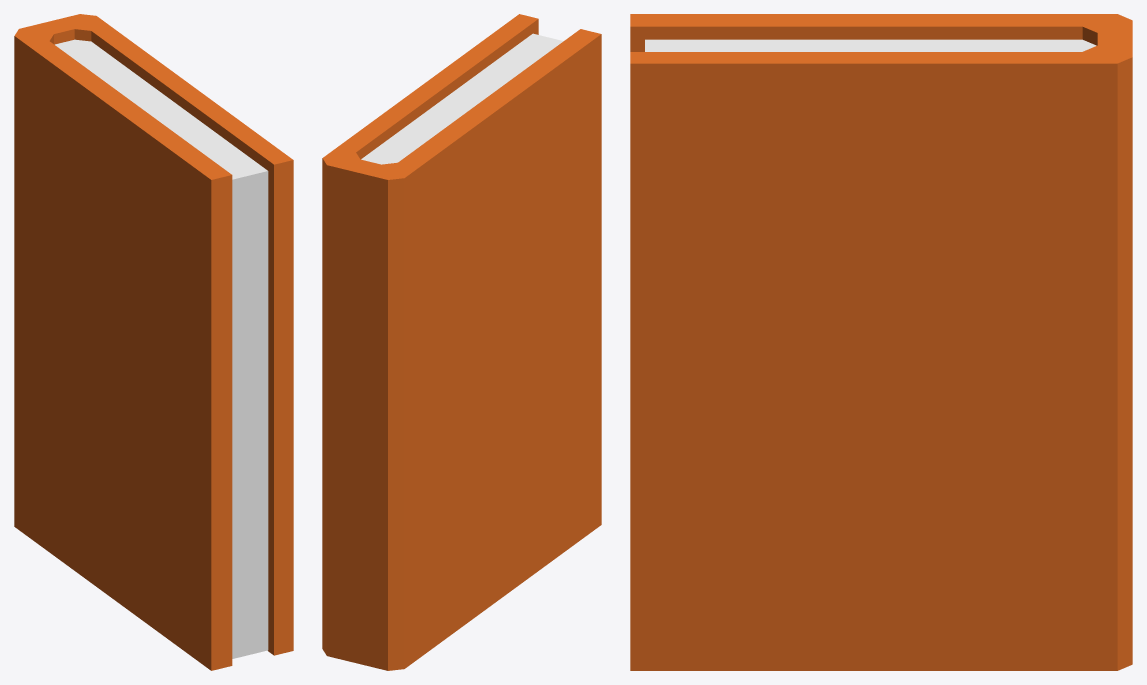
Rendered from Libro02.fbx.
3 views of the same model, side by side, from view 1: azimuth 30°, elevation 25°; view 2: azimuth 150°, elevation 25°; view 3: azimuth 270°, elevation 25° (orthographic). The views are drawn at different scales.
Visible parts, largest first — view 1: Libro02; view 2: Libro02; view 3: Libro02.
Part boxes in pixels (left/top/right/bottom): Libro02: left=14, top=14, right=293, bottom=670; Libro02: left=322, top=14, right=601, bottom=670; Libro02: left=630, top=14, right=1132, bottom=670.
Size of the model in its own units: 5.58 by 31.89 by 23.89.
